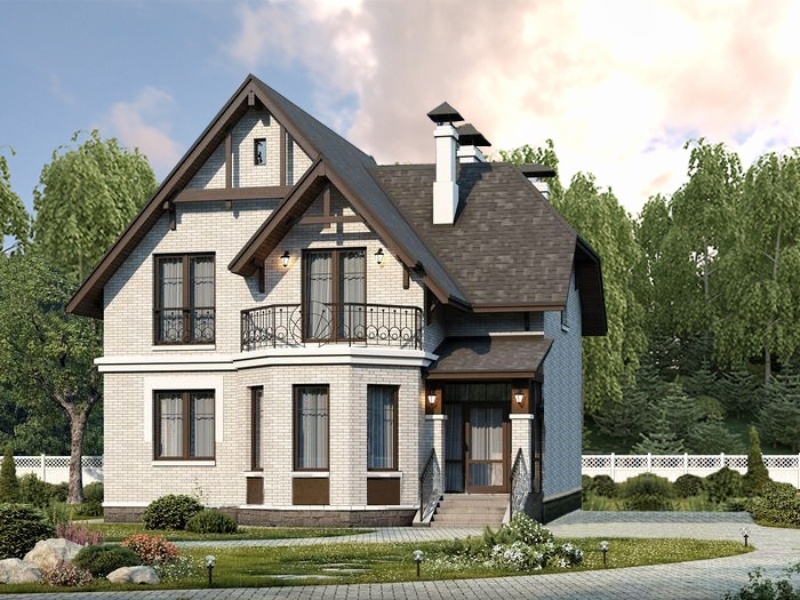window: (298, 238, 370, 340), (143, 246, 216, 344), (153, 384, 215, 460), (289, 381, 329, 472), (366, 380, 396, 467)
